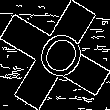O_SW: (24, 22, 86, 88)
